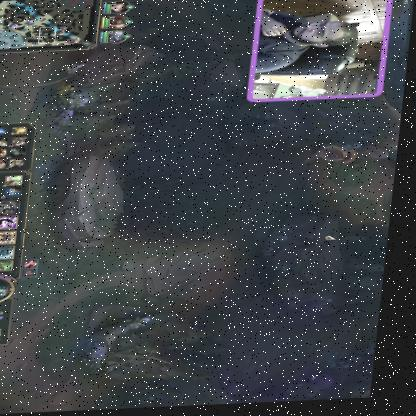streamer: (257, 6, 363, 75)
